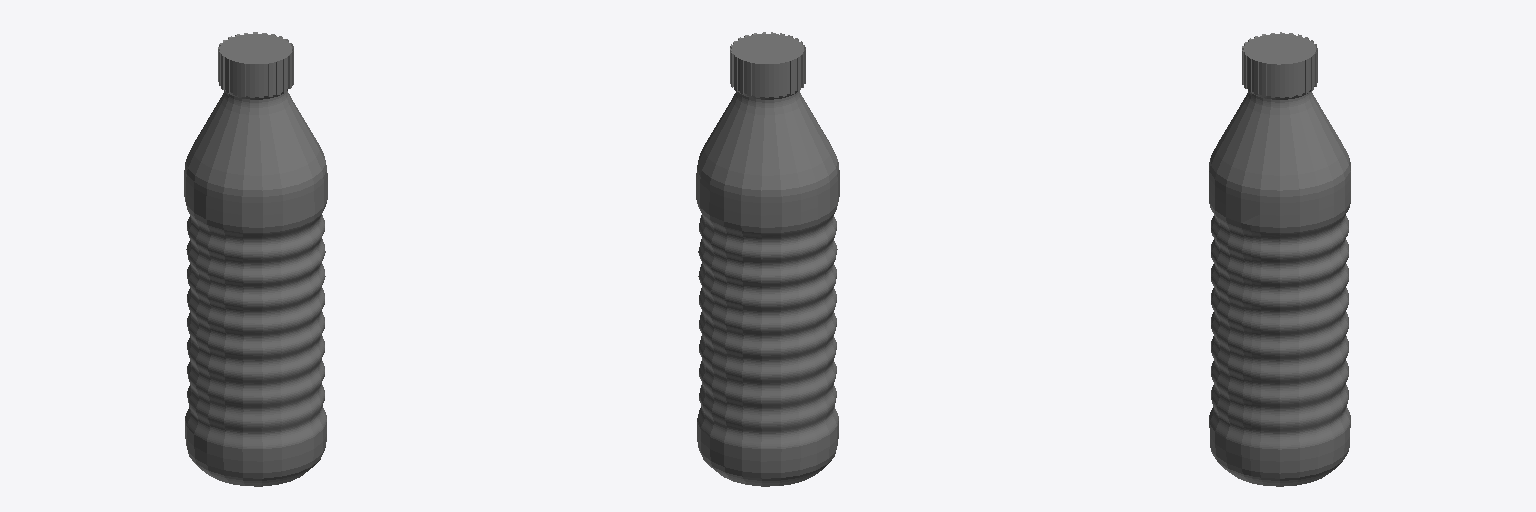
The model's file is bottle2.obj.
3 renders of one model, left to right at view 1: azimuth 30°, elevation 25°; view 2: azimuth 150°, elevation 25°; view 3: azimuth 270°, elevation 25°, orthographic.
Parts seen in each view (by area): view 1: water_bottle; view 2: water_bottle; view 3: water_bottle.
Boxes of the visible parts, <box> form: water_bottle: <box>184,32,327,486</box>; water_bottle: <box>696,32,839,486</box>; water_bottle: <box>1209,32,1350,486</box>.
Size of the model in its own units: 2.01 by 6.41 by 1.99.